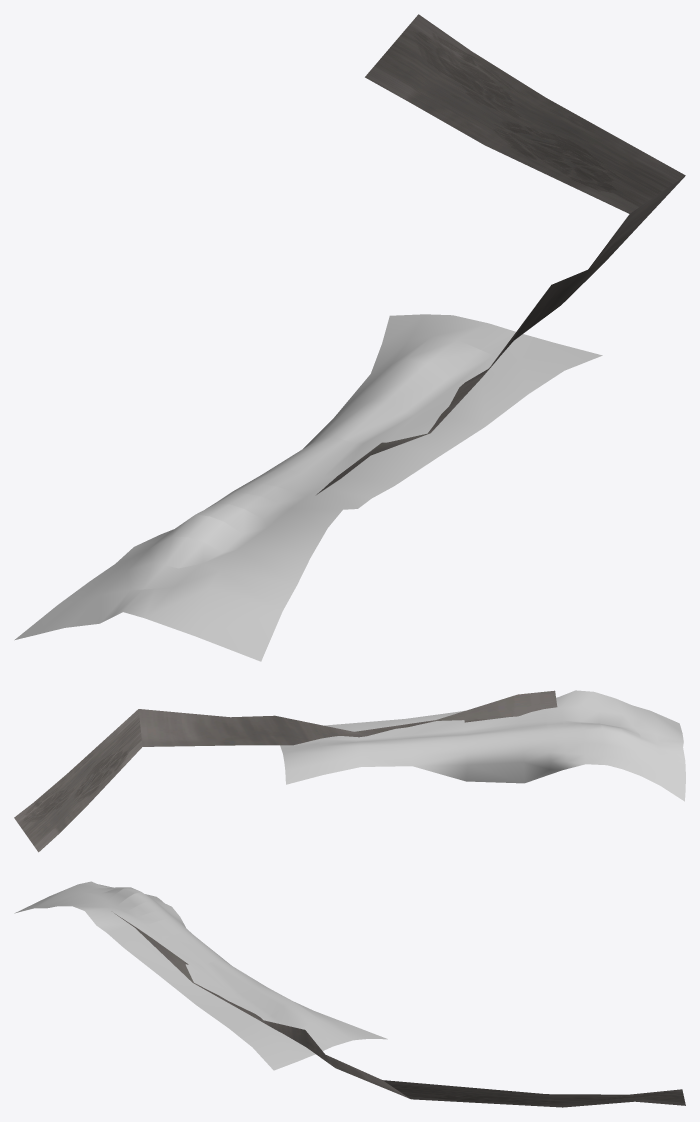
The model's file is SM_ENV_KNFRST_FallenTree_B_COL.FBX.
The picture shows the model from 3 angles, top to bottom: view 1: azimuth 30°, elevation 25°; view 2: azimuth 150°, elevation 25°; view 3: azimuth 270°, elevation 25°; orthographic projection. The views are drawn at different scales.
Parts seen in each view (by area): view 1: SM_ENV_KNFRST_FallenTree_B_COL; view 2: SM_ENV_KNFRST_FallenTree_B_COL; view 3: SM_ENV_KNFRST_FallenTree_B_COL.
Part boxes in pixels (x1,y1,x2,y2): SM_ENV_KNFRST_FallenTree_B_COL: (14,14,685,661); SM_ENV_KNFRST_FallenTree_B_COL: (14,690,685,852); SM_ENV_KNFRST_FallenTree_B_COL: (14,881,685,1107).
Bounding box in the file's own units: 5081 × 675 × 5797.
